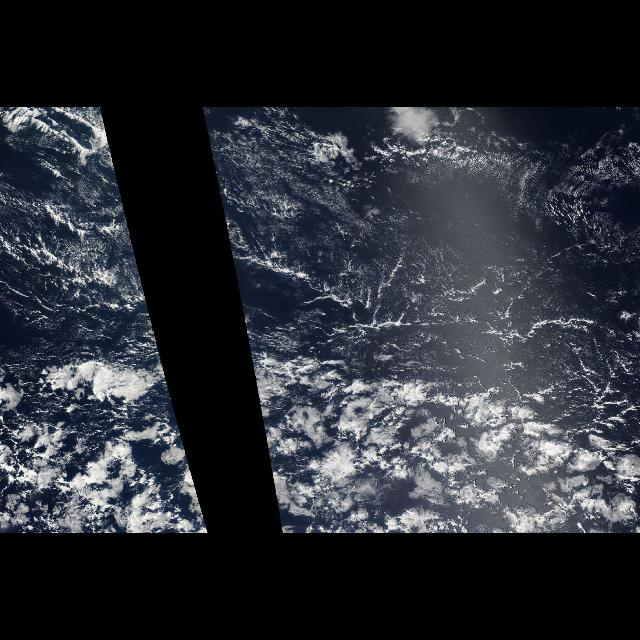Sugar: (240, 156, 496, 364)
